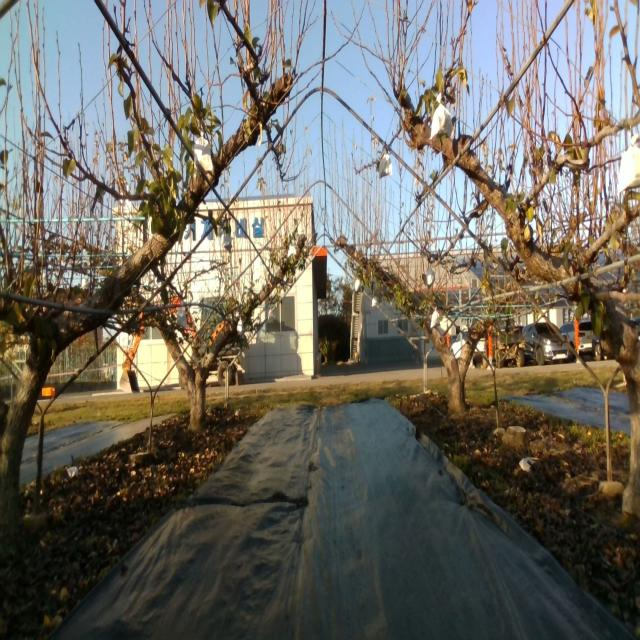pearbags: (616, 126, 640, 194), (430, 94, 455, 139), (193, 132, 214, 178), (377, 151, 394, 179), (176, 306, 188, 328), (430, 306, 441, 329), (222, 232, 232, 252)
